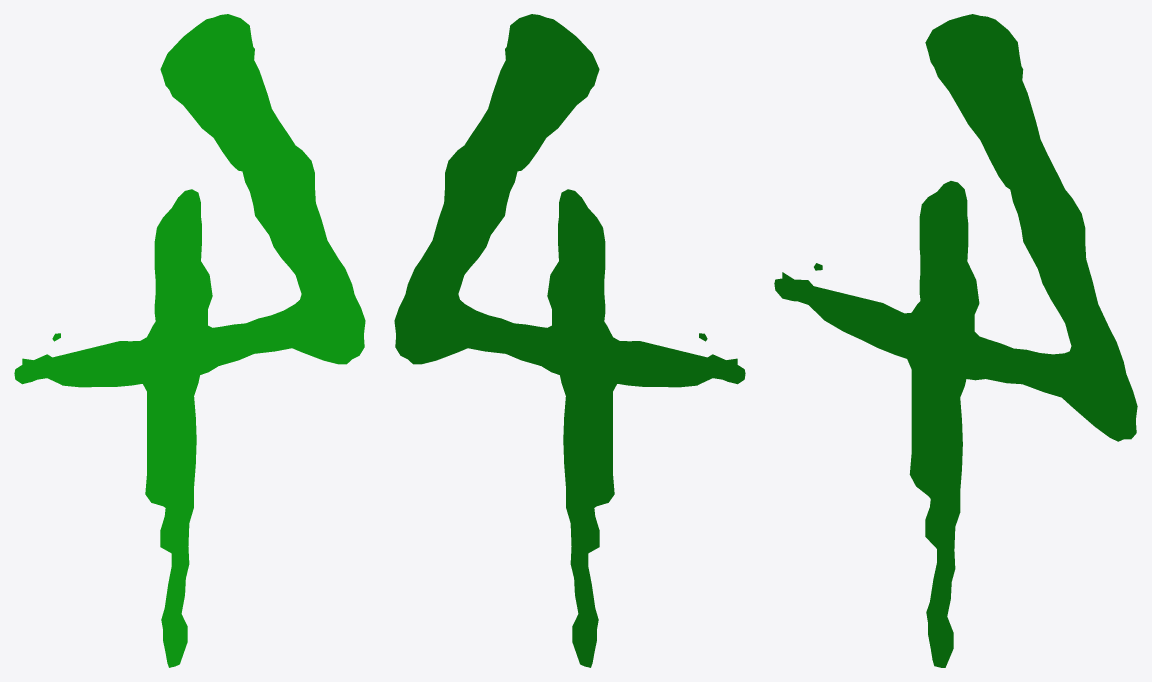
The model's file is hsfour.obj.
3 views of the same model, side by side, from view 1: azimuth 30°, elevation 25°; view 2: azimuth 150°, elevation 25°; view 3: azimuth 330°, elevation 25° (orthographic). The views are drawn at different scales.
Visible parts, largest first — view 1: hsfour.008; view 2: hsfour.008; view 3: hsfour.008.
Part boxes in pixels (x1,y1,x2,y2): hsfour.008: (14,14,365,667); hsfour.008: (394,14,745,667); hsfour.008: (774,14,1137,667).
Size of the model in its own units: 0.3441 by 0.5997 by 0.
